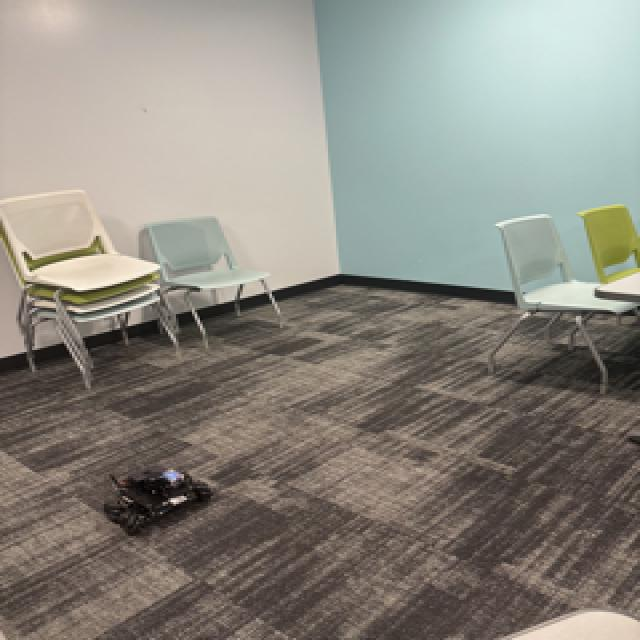ArduinoCar3: (100, 468, 217, 530)
